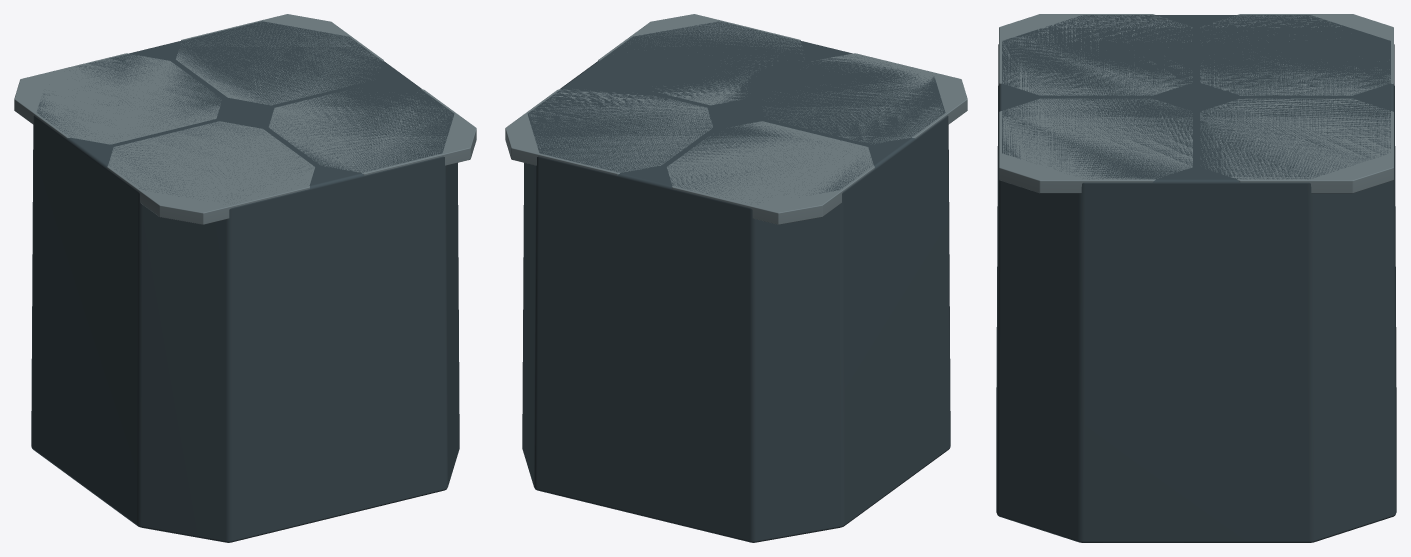
The model's file is Ground.fbx.
3 renders of one model, left to right at view 1: azimuth 30°, elevation 25°; view 2: azimuth 150°, elevation 25°; view 3: azimuth 270°, elevation 25°, orthographic. The views are drawn at different scales.
Parts seen in each view (by area): view 1: GroundFrame, DeckTile, DeckTile.001, DeckTile.002, DeckTile.003; view 2: GroundFrame, DeckTile.001, DeckTile.003, DeckTile, DeckTile.002; view 3: GroundFrame, DeckTile.003, DeckTile.002, DeckTile, DeckTile.001.
Boxes of the visible parts, bbox=[...] form: GroundFrame: bbox=[31, 21, 459, 542]; DeckTile: bbox=[107, 121, 314, 224]; DeckTile.001: bbox=[14, 53, 221, 144]; DeckTile.002: bbox=[269, 88, 476, 175]; DeckTile.003: bbox=[176, 14, 383, 105]; GroundFrame: bbox=[522, 21, 950, 542]; DeckTile.001: bbox=[667, 121, 874, 224]; DeckTile.003: bbox=[505, 89, 712, 175]; DeckTile: bbox=[763, 53, 967, 144]; DeckTile.002: bbox=[598, 14, 803, 105]; GroundFrame: bbox=[996, 15, 1396, 542]; DeckTile.003: bbox=[1200, 98, 1393, 193]; DeckTile.002: bbox=[999, 98, 1192, 193]; DeckTile: bbox=[999, 14, 1192, 95]; DeckTile.001: bbox=[1200, 14, 1393, 95].
Size of the model in its own units: 0.9999 by 1 by 0.9999.
